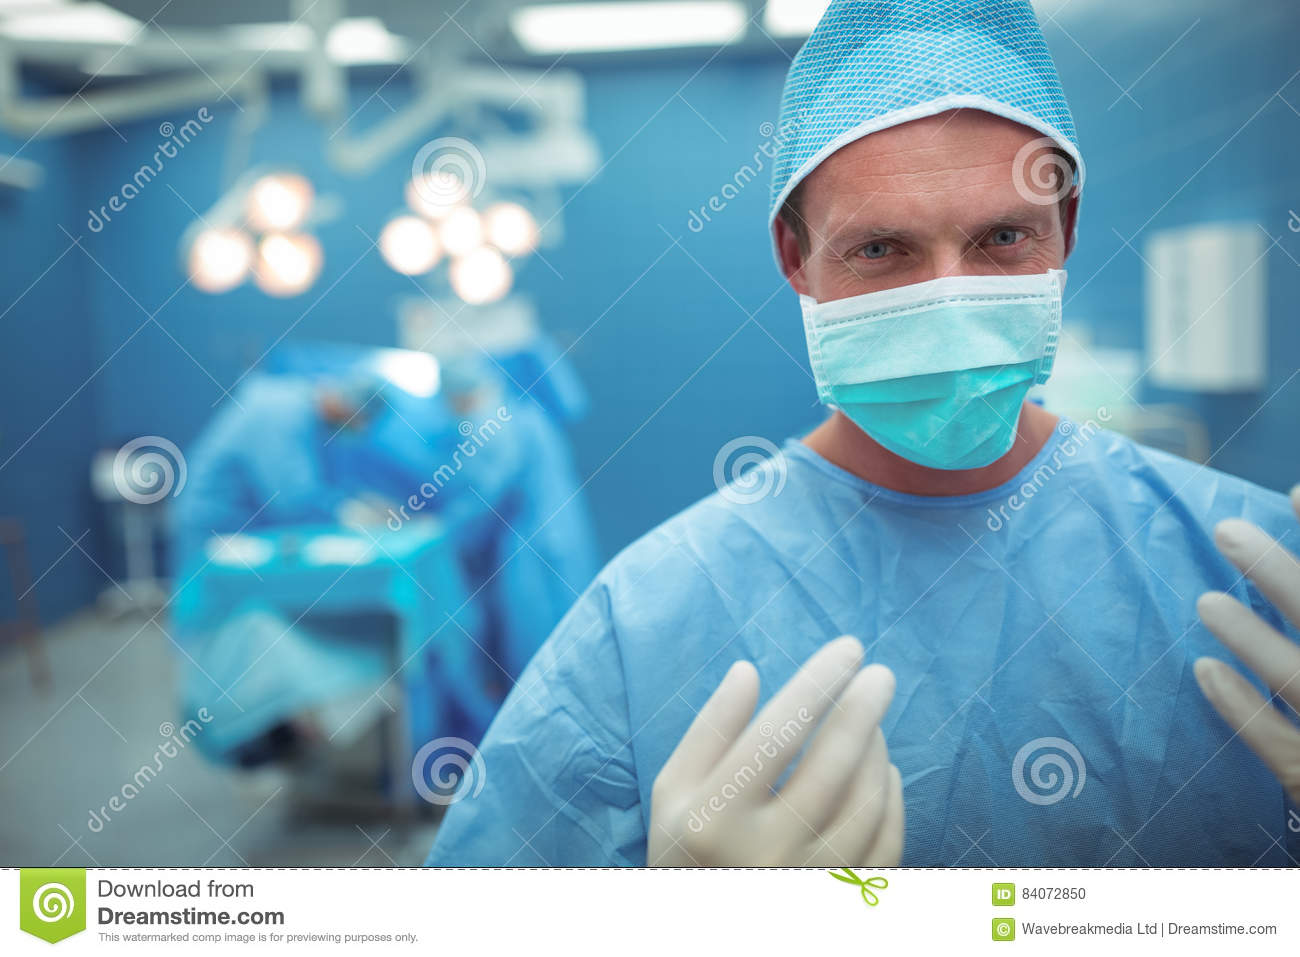mask: (795, 279, 1079, 486)
